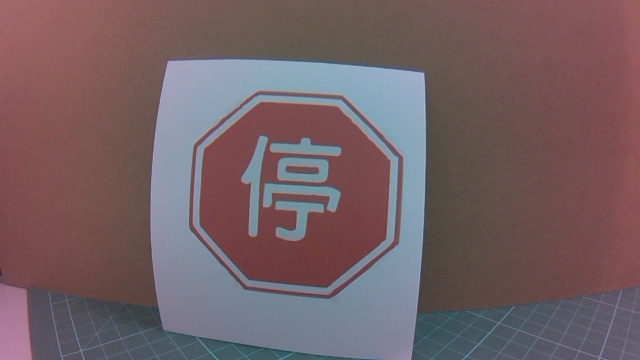stop: (229, 87, 415, 293)
